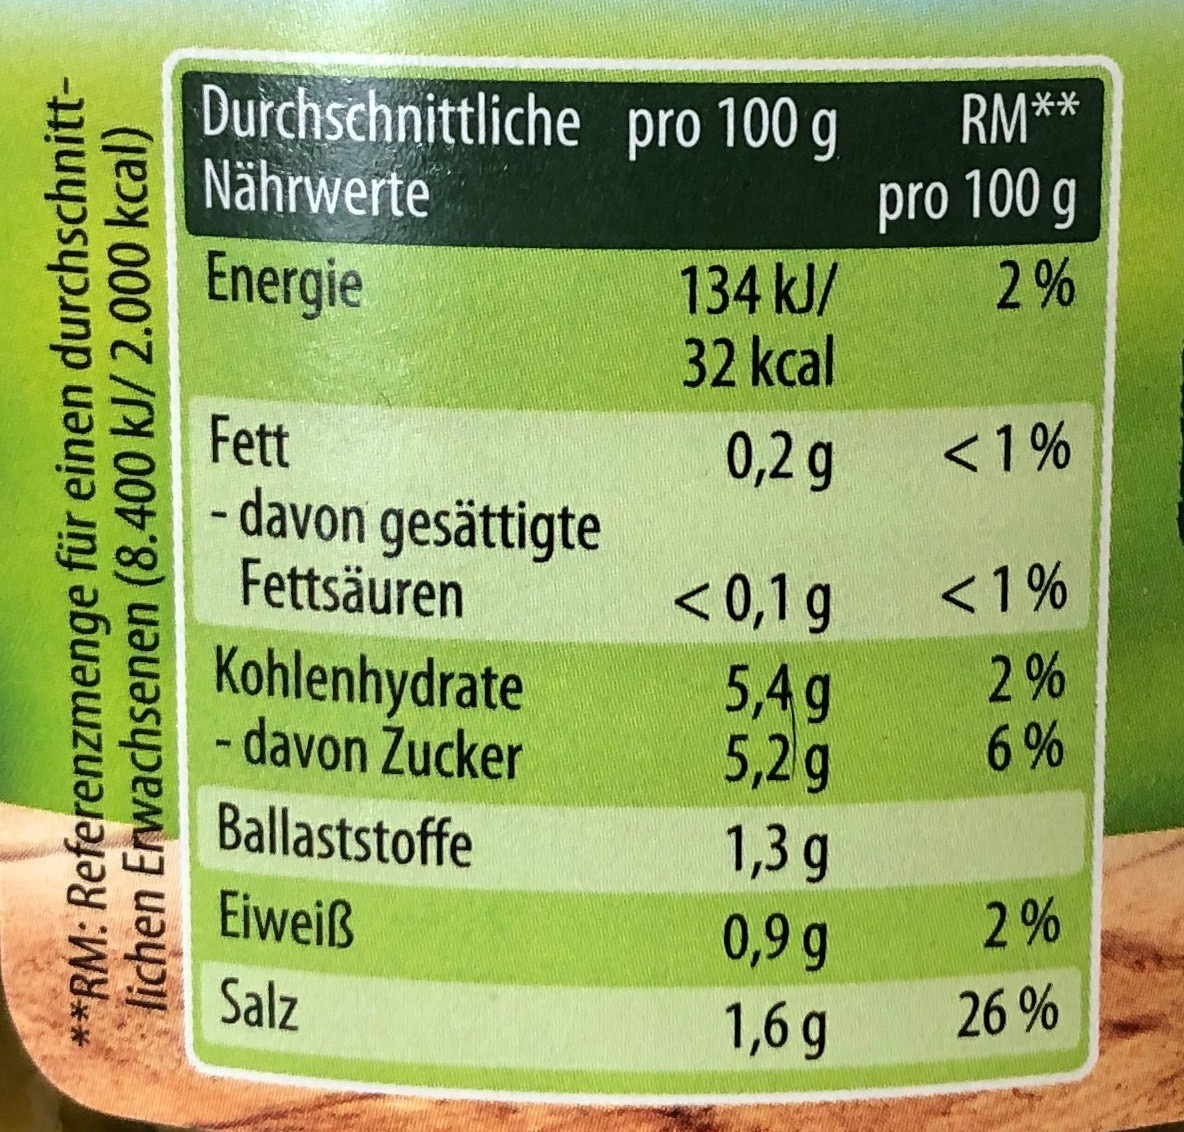column: (198, 85, 599, 1080), (625, 92, 843, 1066), (874, 71, 1084, 1081)
table: (183, 64, 1102, 1081)
